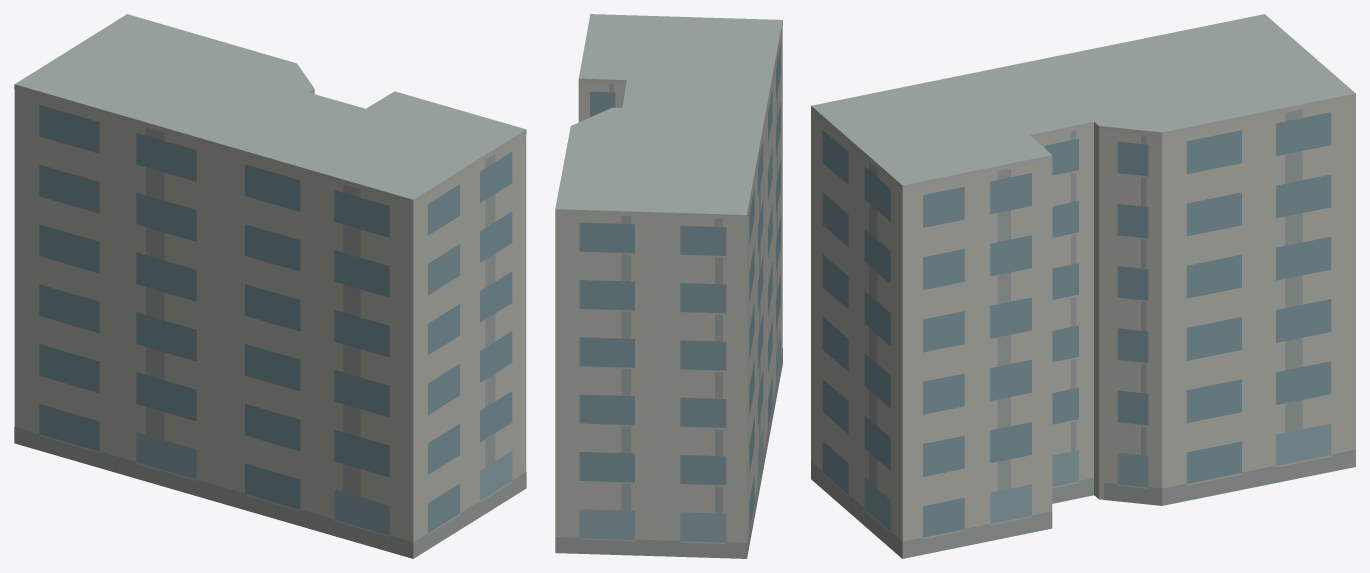
File: survey-upis-32699149.glb
The picture shows the model from 3 angles, left to right: view 1: azimuth 30°, elevation 25°; view 2: azimuth 150°, elevation 25°; view 3: azimuth 270°, elevation 25°; orthographic projection. The views are drawn at different scales.
Parts seen in each view (by area): view 1: survey-upis-32699149.tmp; view 2: survey-upis-32699149.tmp; view 3: survey-upis-32699149.tmp.
Boxes of the visible parts, left/top/right/bottom form: survey-upis-32699149.tmp: left=14, top=14, right=526, bottom=558; survey-upis-32699149.tmp: left=555, top=14, right=782, bottom=558; survey-upis-32699149.tmp: left=811, top=14, right=1355, bottom=558.
Size of the model in its own units: 17.08 by 17.35 by 22.94.
